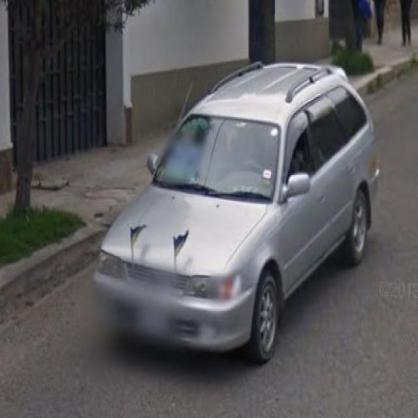car: (97, 64, 381, 368)
